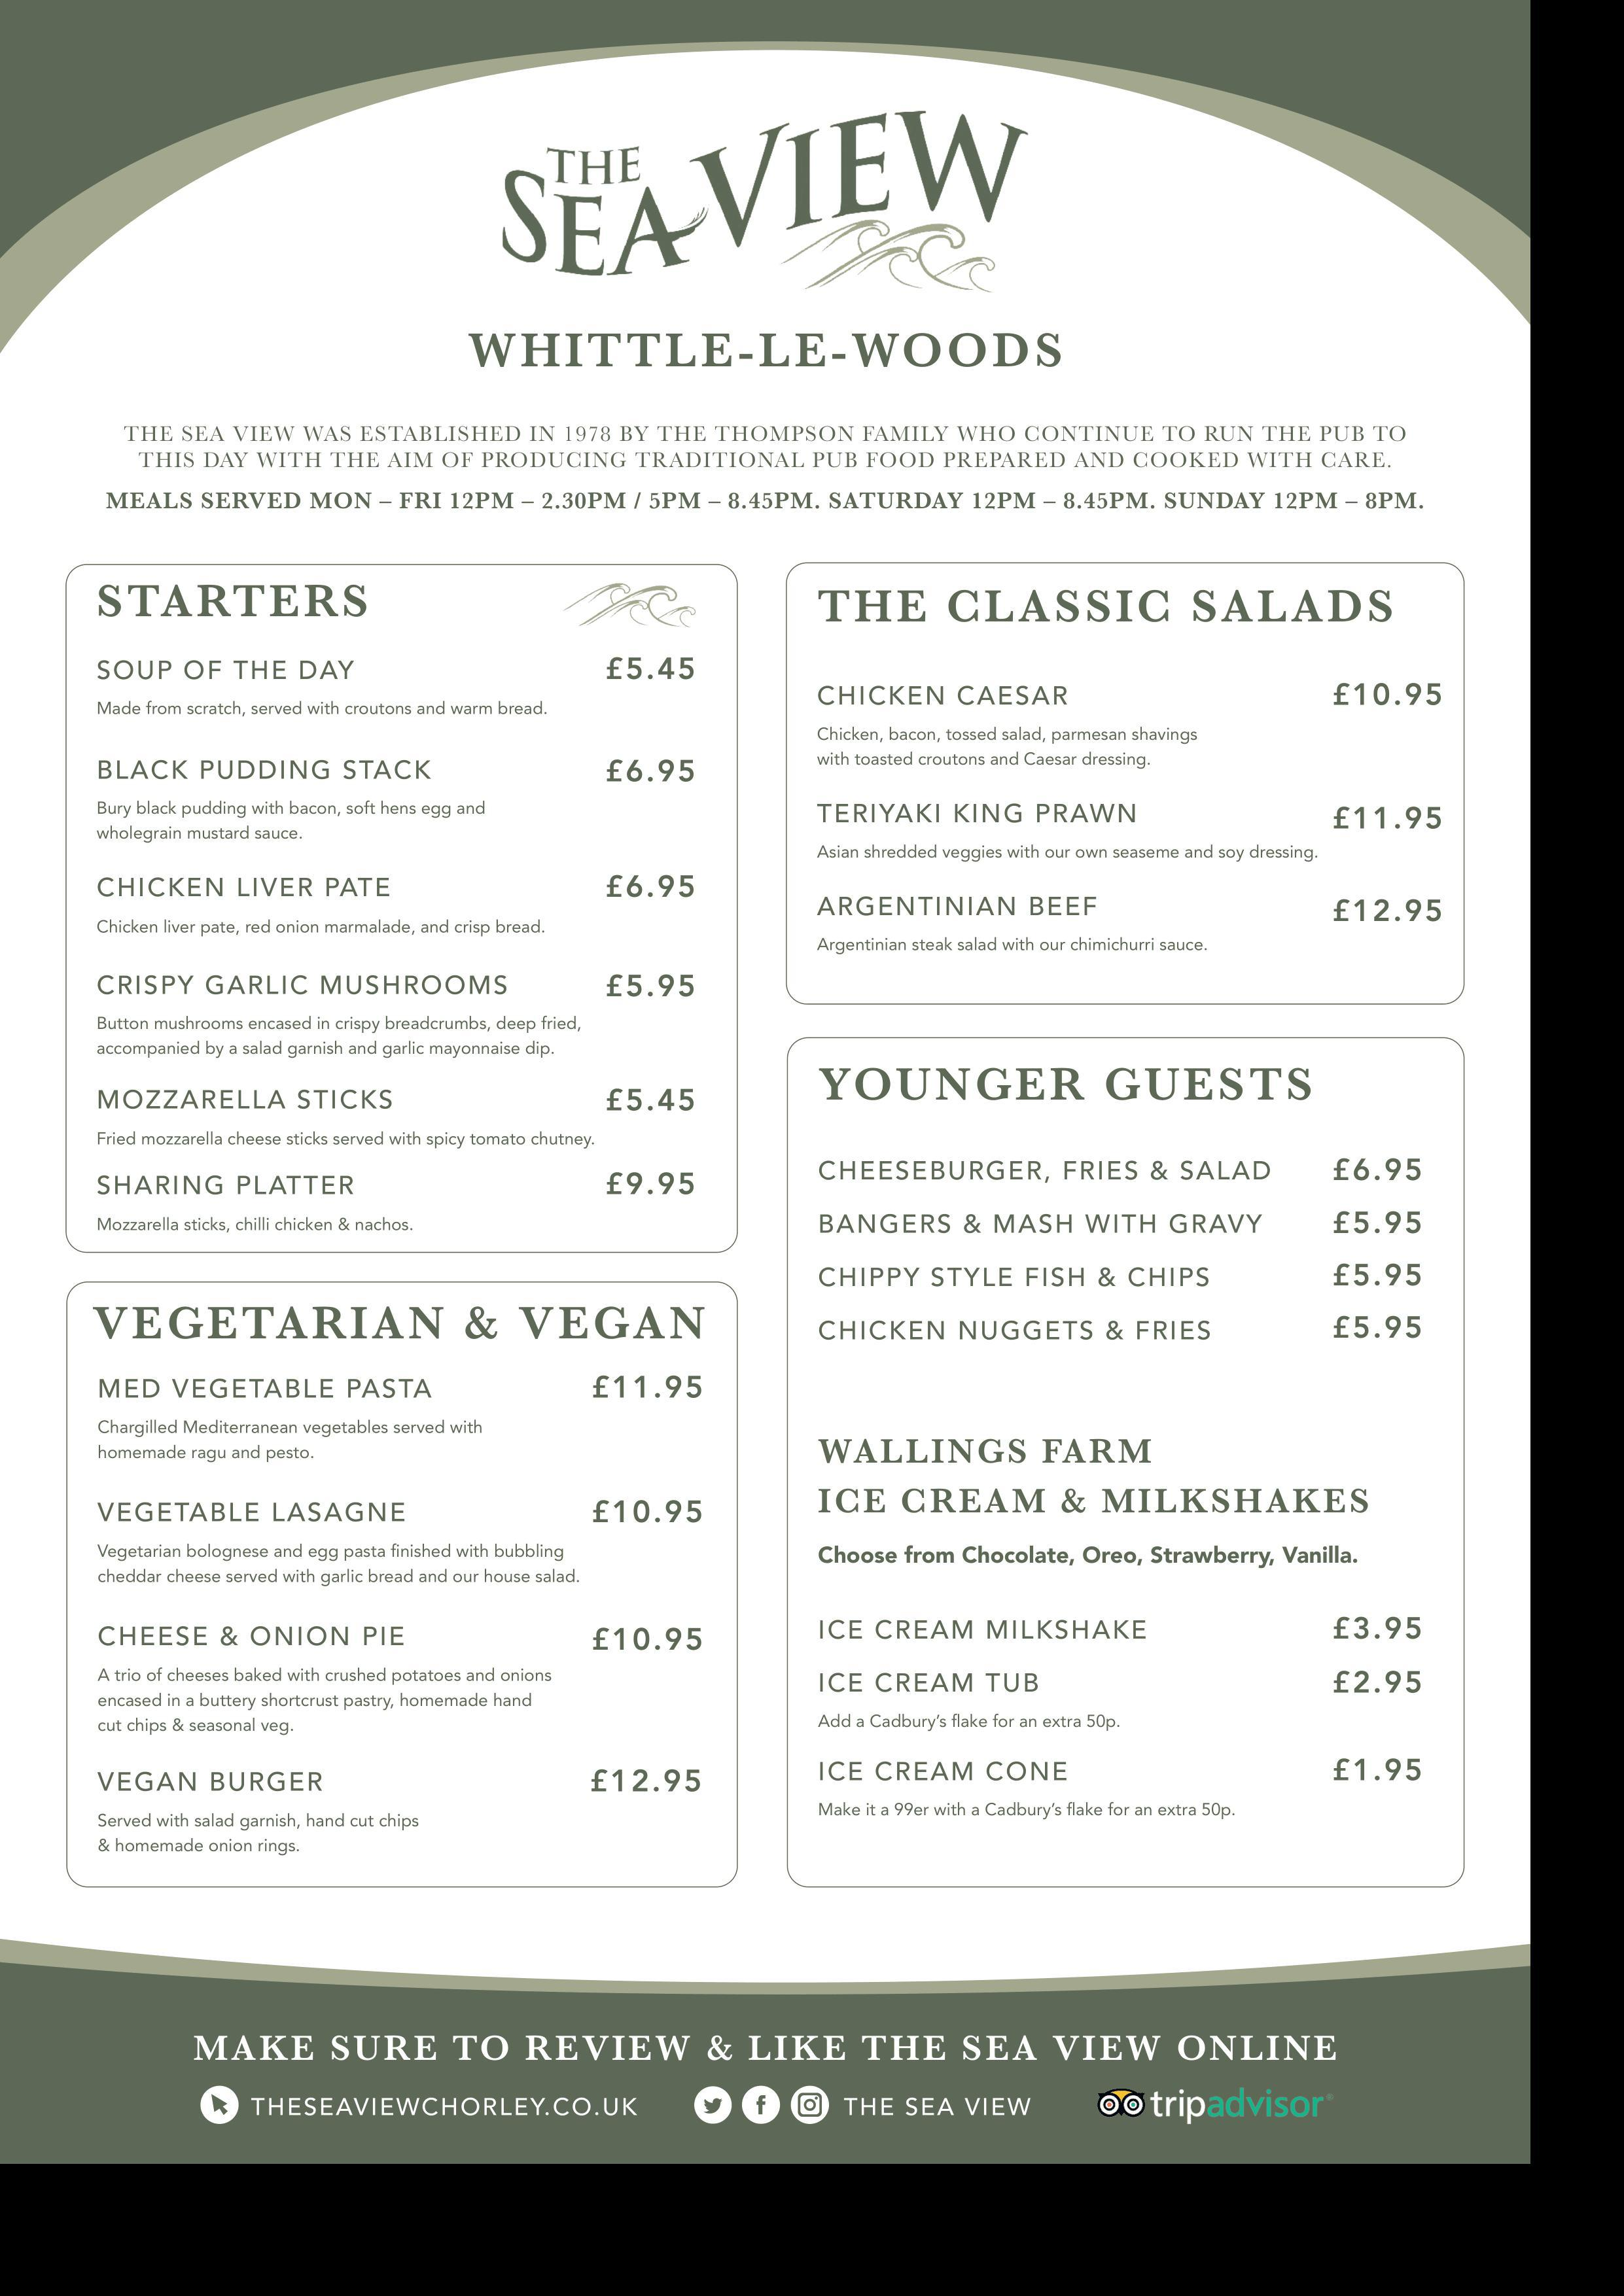description: (91, 1664, 554, 1736), (95, 1012, 589, 1061), (95, 1537, 585, 1583), (93, 1409, 489, 1463), (814, 724, 1206, 773), (97, 796, 492, 841), (93, 1804, 431, 1855), (817, 1794, 1239, 1827), (816, 836, 1323, 863), (95, 1124, 601, 1151), (97, 694, 557, 718), (95, 913, 552, 936), (816, 933, 1216, 956), (817, 1706, 1132, 1734), (91, 1212, 420, 1235)
item: (90, 1620, 707, 1737), (91, 1493, 710, 1597), (90, 1370, 703, 1472), (814, 676, 1443, 769), (91, 966, 698, 1061), (90, 1760, 705, 1852), (95, 750, 698, 843), (812, 1750, 1425, 1830), (816, 798, 1446, 870), (814, 885, 1443, 956), (91, 1084, 705, 1154), (93, 653, 703, 722), (91, 1168, 703, 1233), (93, 873, 696, 938), (814, 1667, 1427, 1730), (816, 1205, 1431, 1249), (816, 1258, 1429, 1298), (814, 1312, 1439, 1351), (814, 1152, 1431, 1189), (816, 1614, 1427, 1646)
price: (1332, 801, 1443, 836), (1329, 680, 1443, 711), (1332, 892, 1443, 924), (589, 1627, 703, 1655), (587, 1765, 701, 1794), (591, 1372, 703, 1400), (594, 1498, 705, 1527), (1329, 1753, 1422, 1787), (606, 652, 696, 685), (603, 1086, 698, 1116), (603, 871, 696, 901), (1332, 1667, 1425, 1697), (605, 755, 696, 785), (1329, 1613, 1424, 1641), (1336, 1312, 1424, 1342), (601, 971, 694, 1000), (1332, 1261, 1425, 1289), (606, 1170, 700, 1196), (1334, 1156, 1425, 1182), (1330, 1210, 1424, 1235)
tittle: (817, 1209, 1265, 1238), (93, 971, 510, 1001), (817, 1158, 1274, 1184), (816, 1261, 1216, 1291), (817, 1316, 1214, 1344), (91, 1374, 436, 1404), (95, 1498, 413, 1528), (97, 873, 394, 905), (817, 1616, 1151, 1644), (95, 1621, 406, 1651), (93, 755, 436, 782), (93, 1086, 399, 1112), (814, 1757, 1079, 1785), (817, 803, 1142, 826), (816, 680, 1076, 708), (816, 894, 1106, 919), (97, 659, 362, 685), (93, 1769, 329, 1797), (93, 1173, 357, 1198), (816, 1669, 1042, 1697)
